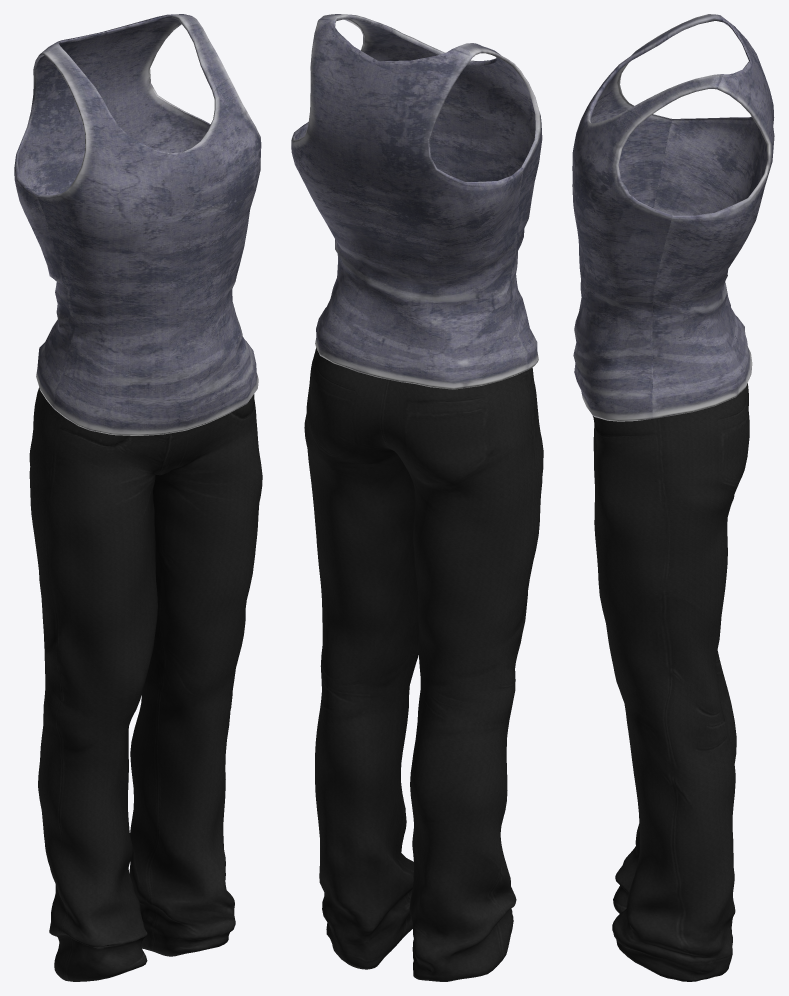
Rendered from manSuit.obj.
3 views of the same model, side by side, from view 1: azimuth 30°, elevation 25°; view 2: azimuth 150°, elevation 25°; view 3: azimuth 270°, elevation 25° (orthographic). The views are drawn at different scales.
Parts seen in each view (by area): view 1: Jeans, Tank top; view 2: Jeans, Tank top; view 3: Jeans, Tank top.
Boxes of the visible parts, x1,y1,x2,y2 form: Jeans: (29, 387, 262, 981); Tank top: (14, 14, 261, 435); Jeans: (304, 347, 543, 981); Tank top: (291, 14, 542, 389); Jeans: (593, 383, 749, 981); Tank top: (572, 14, 774, 421).
Size of the model in its own units: 36.15 by 154 by 31.02.
